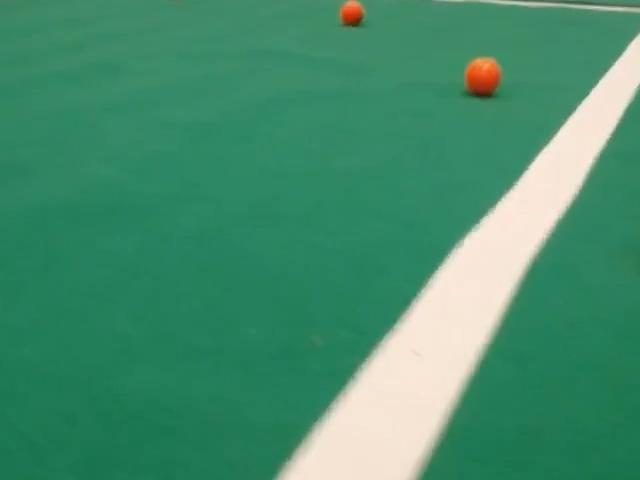Ball: (464, 57, 501, 96), (339, 0, 364, 26)
